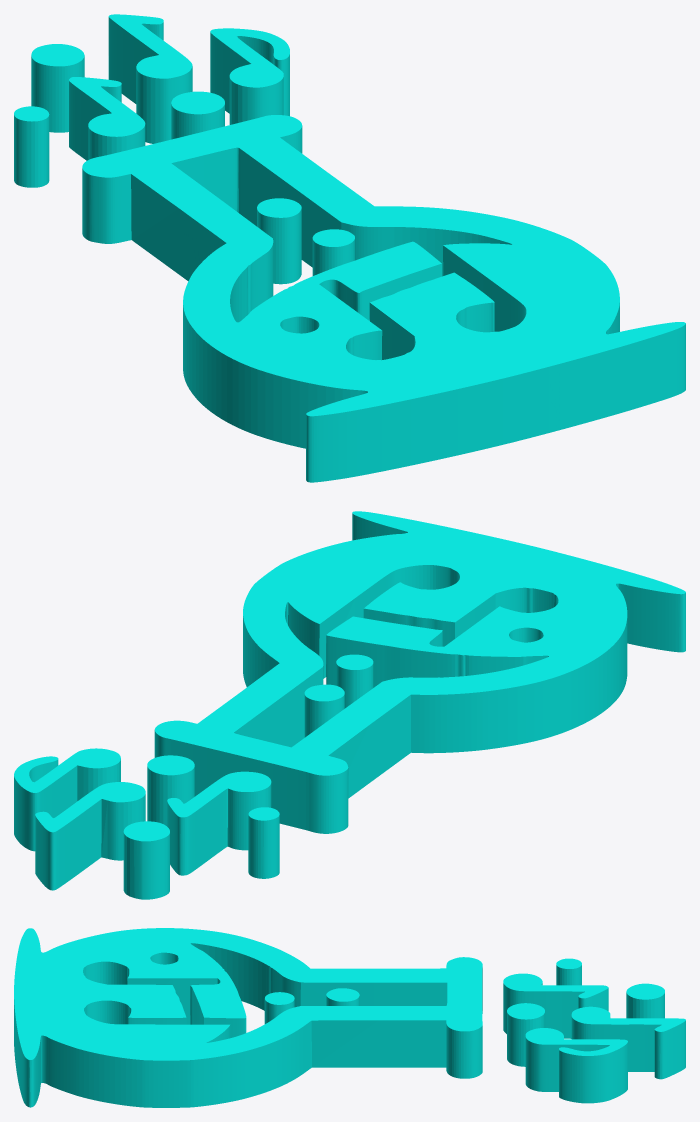
Rendered from soundlab.glb.
3 views of the same model, one above another, from view 1: azimuth 30°, elevation 25°; view 2: azimuth 150°, elevation 25°; view 3: azimuth 270°, elevation 25° (orthographic). The views are drawn at different scales.
Visible parts, largest first — view 1: Curve.006; view 2: Curve.006; view 3: Curve.006.
Part boxes in pixels (left/top/right/bottom): Curve.006: left=14, top=14, right=685, bottom=482; Curve.006: left=14, top=511, right=685, bottom=899; Curve.006: left=14, top=928, right=685, bottom=1107.
Bounding box in the file's own units: 0.156 × 0.026 × 0.3341.
